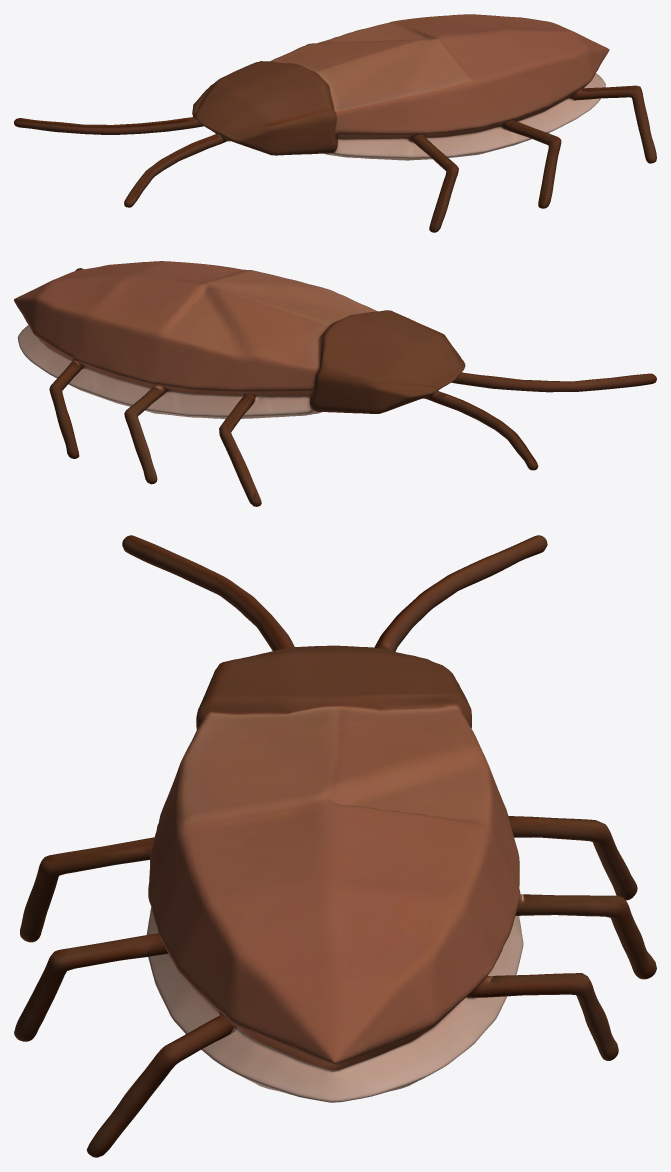
Rendered from tripo_convert_fdbae1a6-53f8-4ca1-b2b8-d07be4fba7a9.fbx.
3 views of the same model, one above another, from view 1: azimuth 30°, elevation 25°; view 2: azimuth 150°, elevation 25°; view 3: azimuth 270°, elevation 25° (orthographic). The views are drawn at different scales.
Visible parts, largest first — view 1: tripo_node_fdbae1a6; view 2: tripo_node_fdbae1a6; view 3: tripo_node_fdbae1a6.
Part boxes in pixels (x1,y1,x2,y2): tripo_node_fdbae1a6: (14,14,656,232); tripo_node_fdbae1a6: (14,261,656,506); tripo_node_fdbae1a6: (14,535,656,1157).
Bounding box in the file's own units: 97.95 × 54.31 × 20.48.
Materials: 1 (1 with a texture image).
